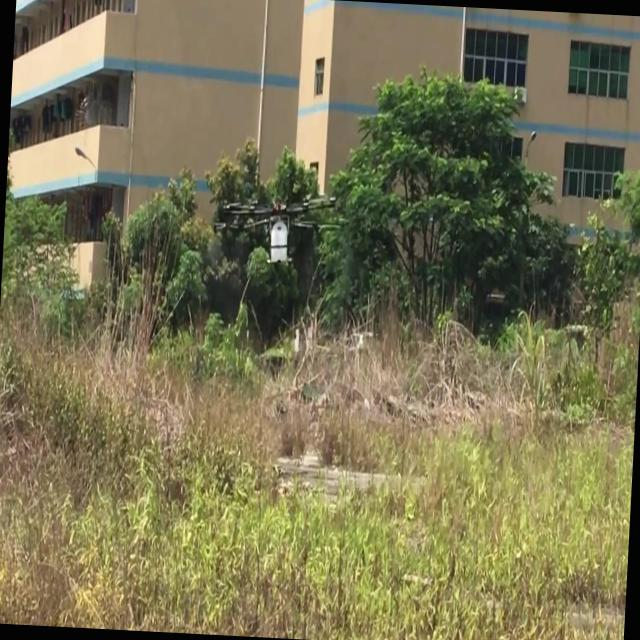drone: (211, 188, 349, 270)
